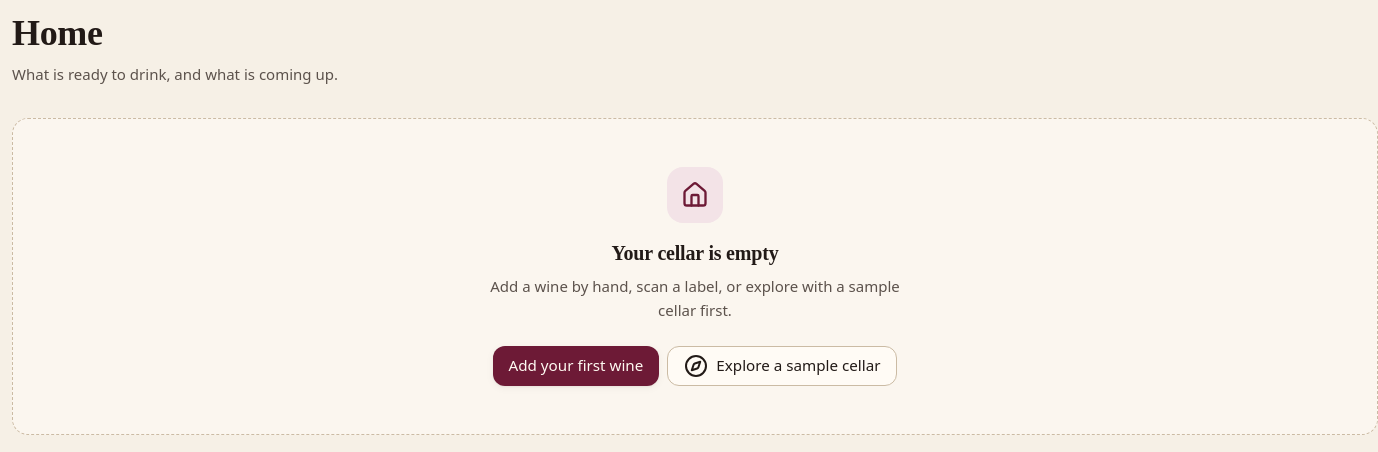
HomePage › shows the refusal reason when undo of the sample load is blocked by a later change
Click the button "Explore a sample cellar".
click(782, 366)  # box left=667, top=346, right=897, bottom=386
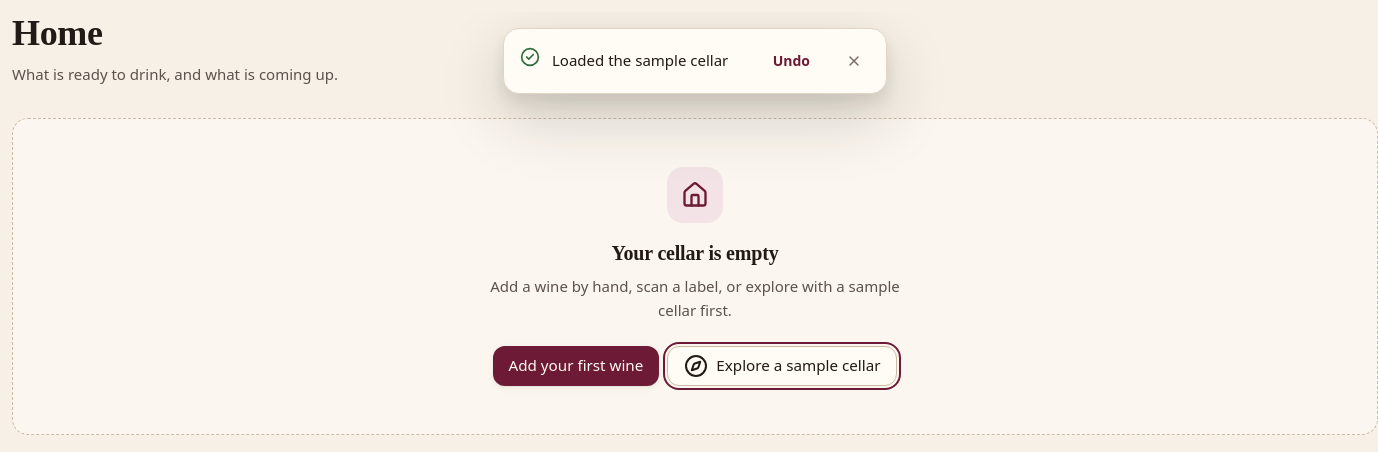
Check: the text "Loaded the sample cellar" is shown, box left=552, top=49, right=749, bottom=73
Click the button "Undo".
click(791, 61)  # box left=761, top=41, right=822, bottom=81
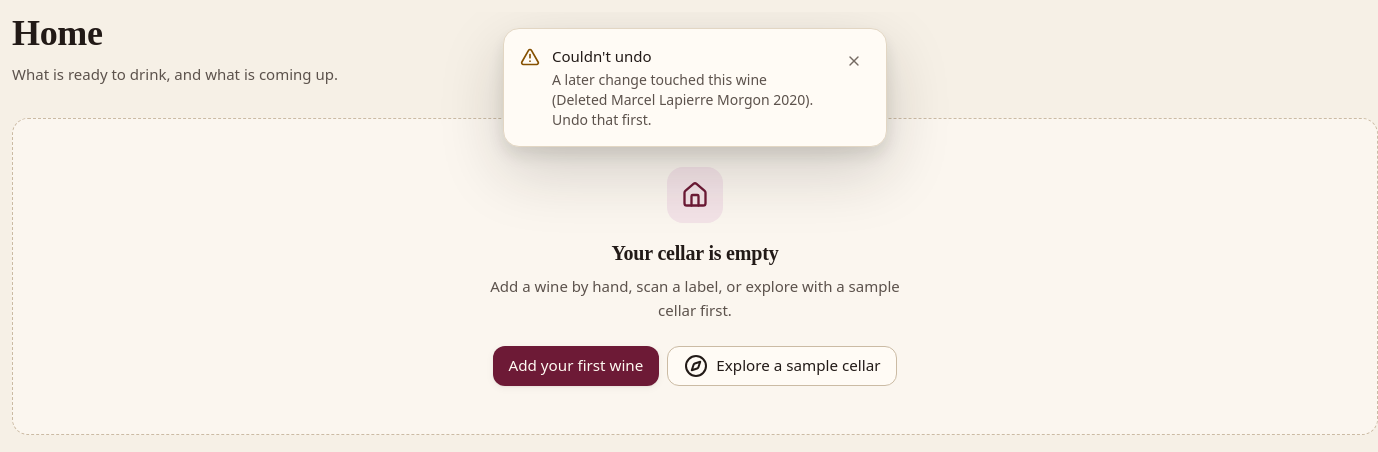
Check: the text "Couldn't undo" is shown, box left=552, top=46, right=652, bottom=66
Check: the text "A later change touched" is shown, box left=552, top=70, right=813, bottom=129
